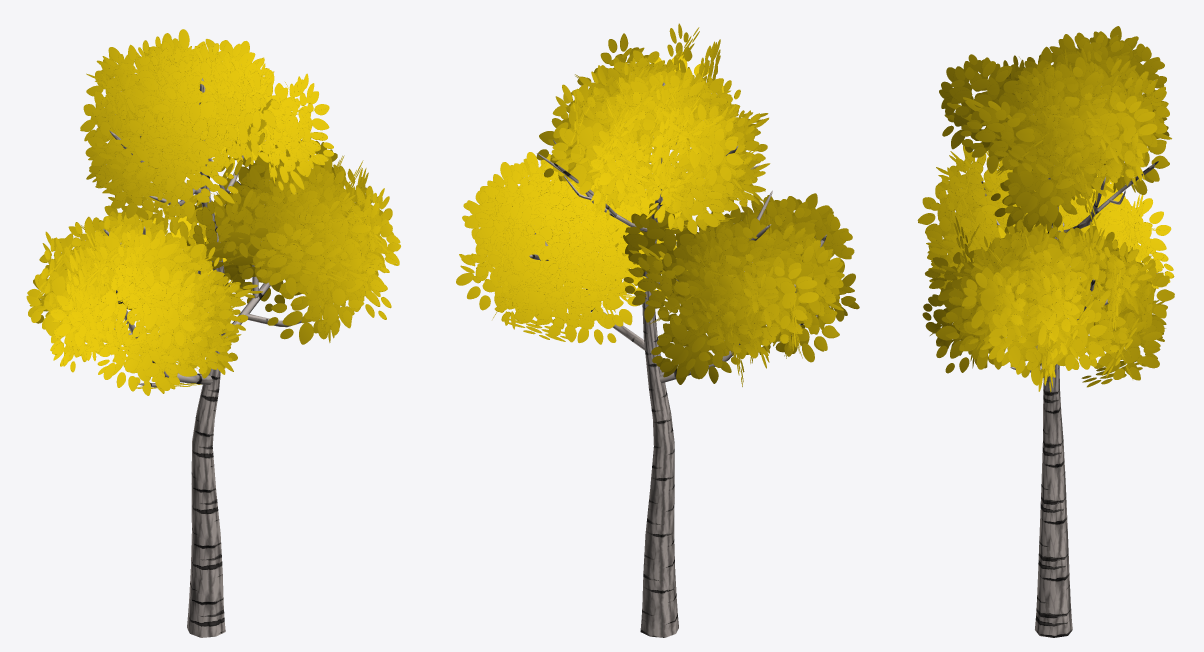
The model's file is birch_tree_4.gltf.
The picture shows the model from 3 angles, left to right: view 1: azimuth 30°, elevation 25°; view 2: azimuth 150°, elevation 25°; view 3: azimuth 270°, elevation 25°; orthographic projection.
Parts seen in each view (by area): view 1: BirchTree_4; view 2: BirchTree_4; view 3: BirchTree_4.
Boxes of the visible parts, <box> form: BirchTree_4: <box>26,29,400,637</box>; BirchTree_4: <box>456,23,859,637</box>; BirchTree_4: <box>917,26,1174,637</box>.
Bounding box in the file's own units: 2.78 × 4.21 × 1.84.
2 materials, 2 textured.
